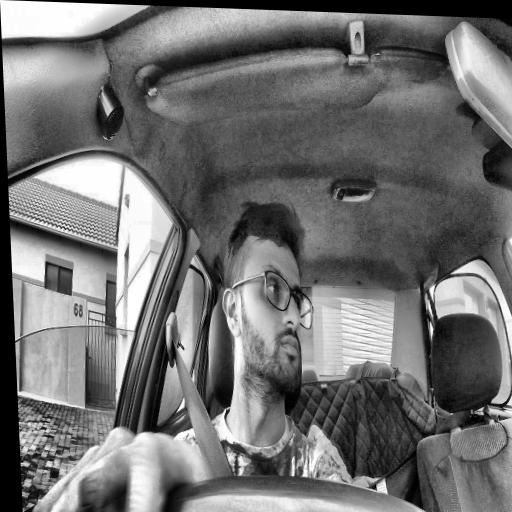awake: (218, 199, 318, 402)
